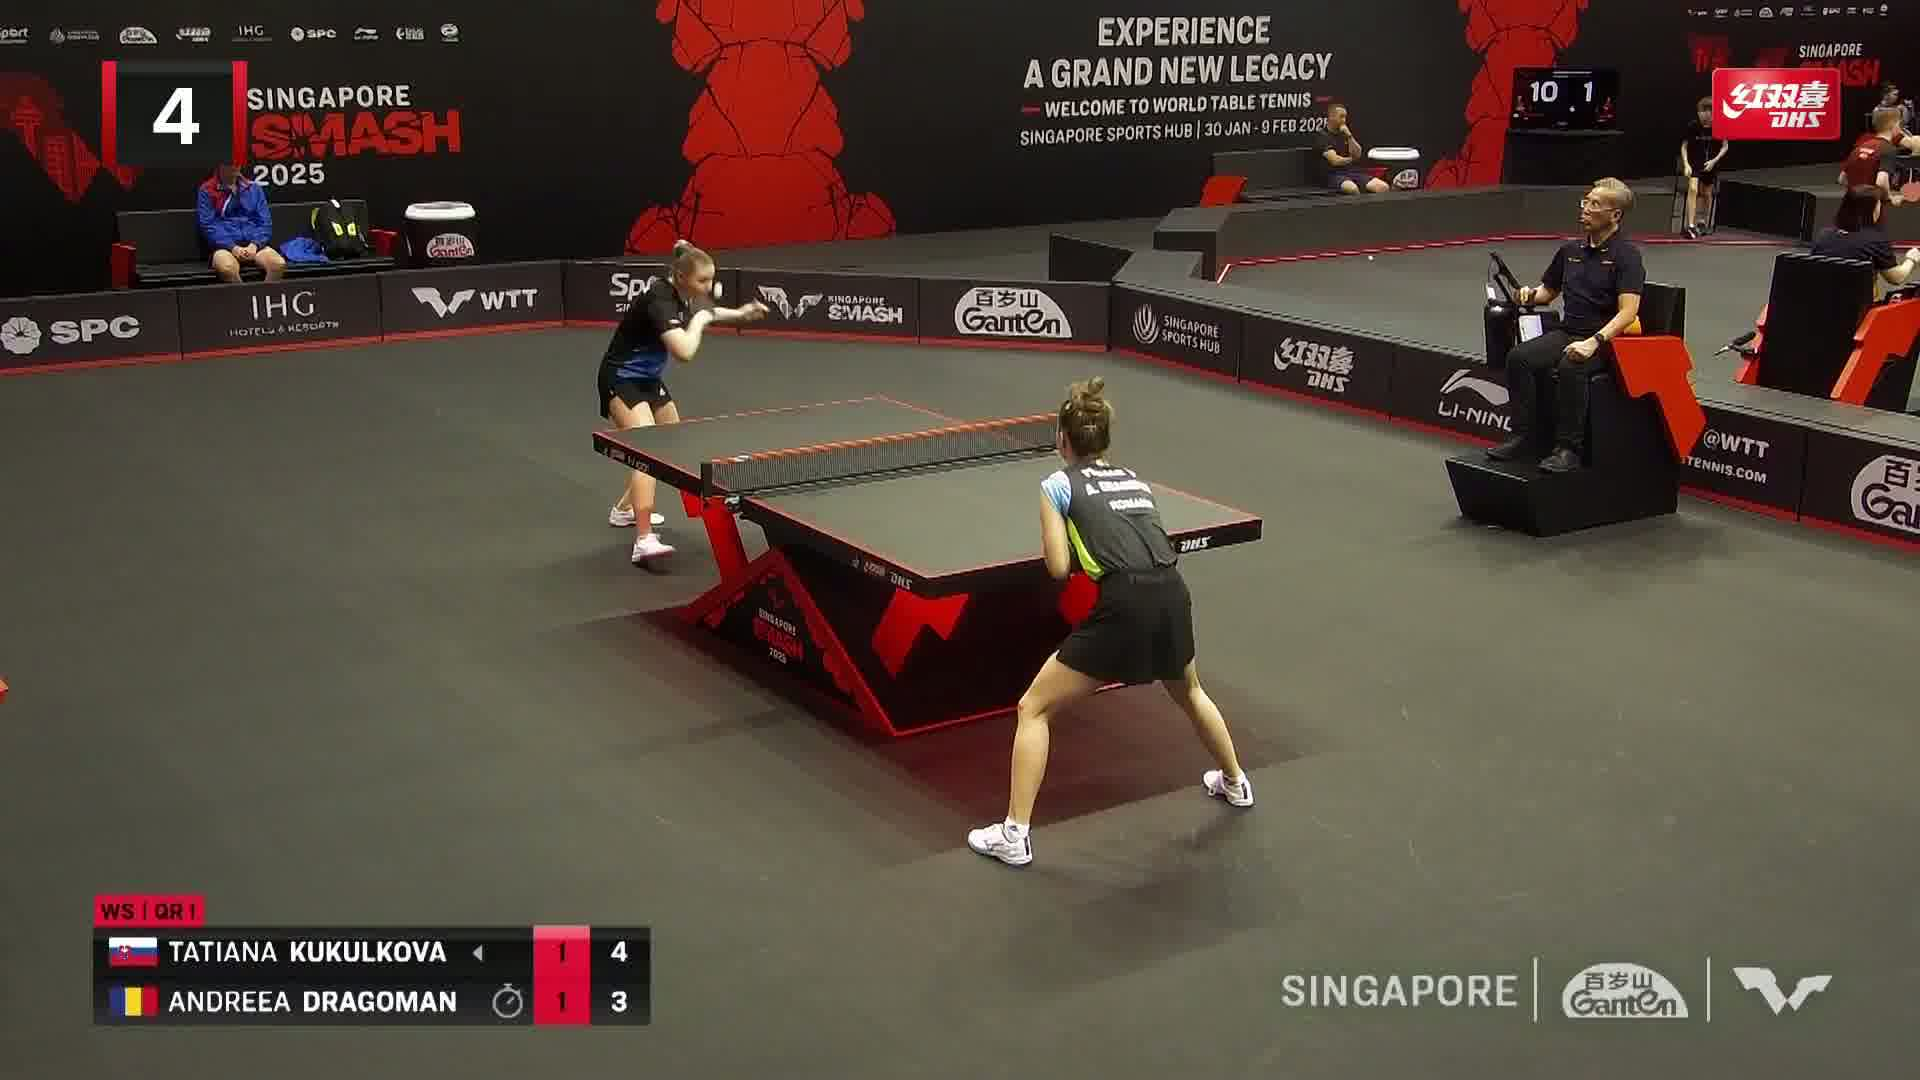table_tennis_ball: (713, 281, 723, 299)
